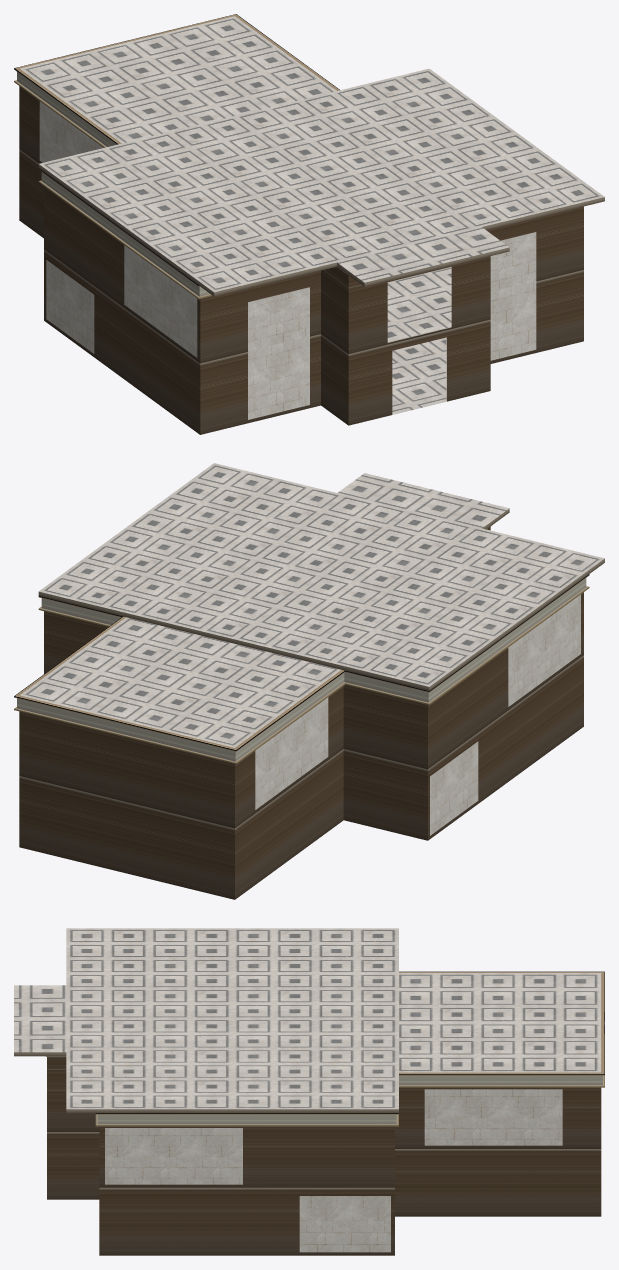
The model's file is pm-launch-building-coon-building.glb.
3 views of the same model, one above another, from view 1: azimuth 30°, elevation 25°; view 2: azimuth 150°, elevation 25°; view 3: azimuth 270°, elevation 25° (orthographic). The views are drawn at different scales.
Visible parts, largest first — view 1: Launch_Building_Coon_Building, Launch_Building_Coon_Exterior_Joint1, Launch_Building_Coon_Interior_Wall; view 2: Launch_Building_Coon_Building, Launch_Building_Coon_Exterior_Joint1, Launch_Building_Coon_Interior_Wall; view 3: Launch_Building_Coon_Building, Launch_Building_Coon_Exterior_Joint1, Launch_Building_Coon_Interior_Wall.
Boxes of the visible parts, box(x1,y1,x2,y2) form: Launch_Building_Coon_Building: box(20, 16, 604, 414); Launch_Building_Coon_Exterior_Joint1: box(14, 14, 604, 434); Launch_Building_Coon_Interior_Wall: box(39, 101, 536, 419); Launch_Building_Coon_Building: box(19, 463, 604, 747); Launch_Building_Coon_Exterior_Joint1: box(14, 508, 604, 899); Launch_Building_Coon_Interior_Wall: box(255, 594, 580, 835); Launch_Building_Coon_Building: box(14, 928, 601, 1109); Launch_Building_Coon_Exterior_Joint1: box(14, 971, 604, 1255); Launch_Building_Coon_Interior_Wall: box(105, 1089, 562, 1252).
Size of the model in its own units: 28.62 by 10.93 by 39.56.
5 materials, 5 textured.
